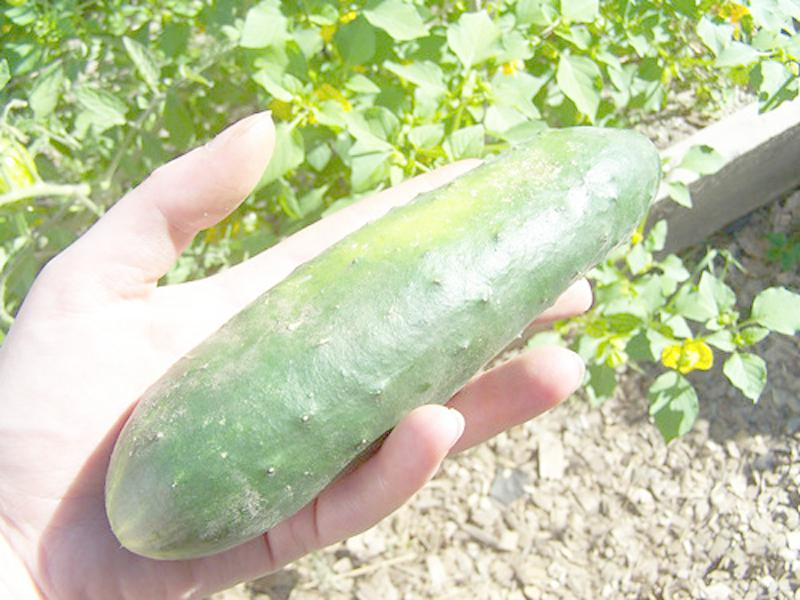Cucumber: (107, 128, 662, 557)
